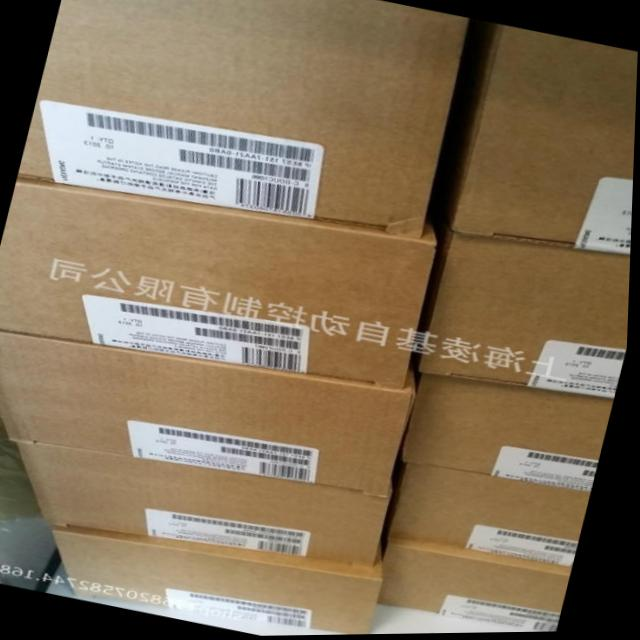box: (19, 0, 470, 239), (0, 179, 437, 390), (0, 330, 417, 498), (440, 22, 638, 258), (19, 443, 394, 567), (420, 227, 632, 399), (53, 527, 387, 636), (404, 374, 615, 493), (387, 464, 593, 568), (381, 538, 575, 633)
